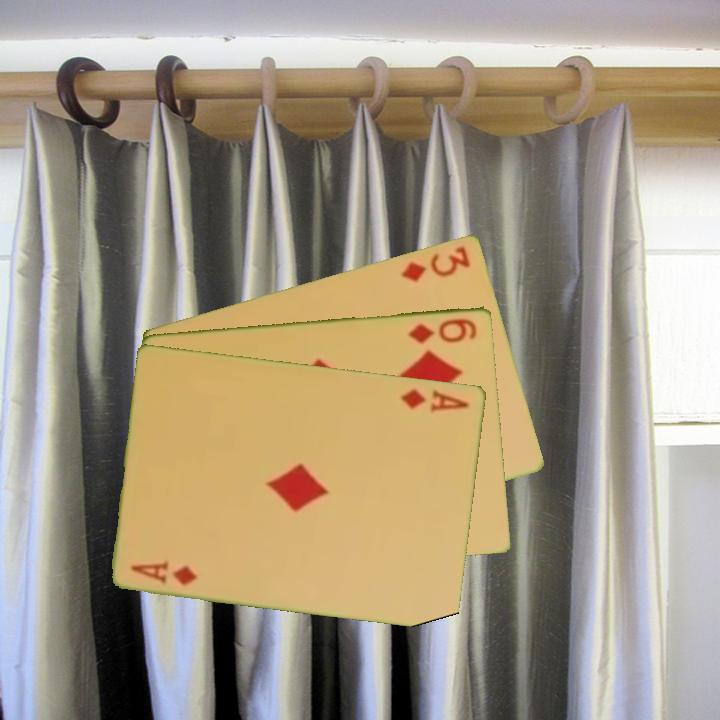3d: (398, 242, 473, 284)
6d: (405, 314, 480, 346)
Ad: (397, 385, 472, 416), (128, 557, 201, 587)
